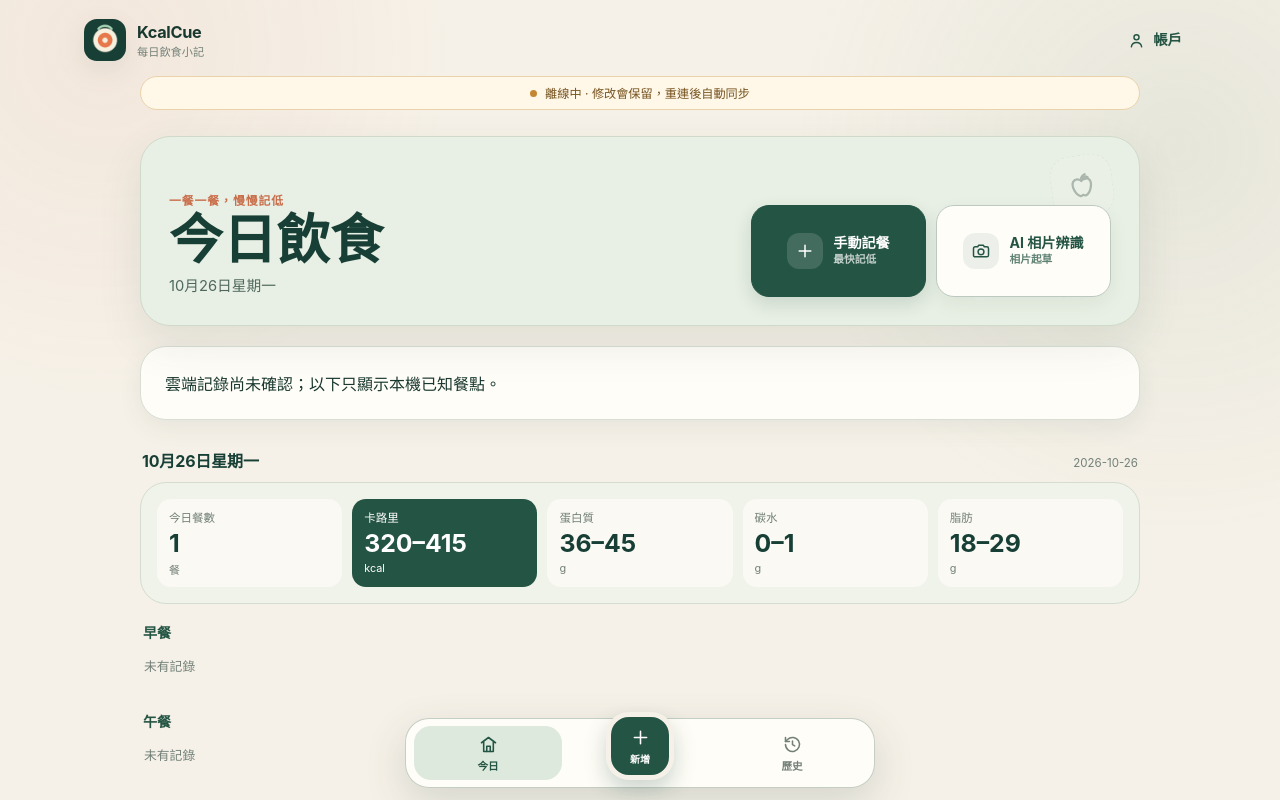
shows the corrected History meal and the original AI suggestion separately
This screenshot has width=1280, height=800.
Click the button "歷史" at (792, 753), box [718,726,866,780]
(page scrolled)
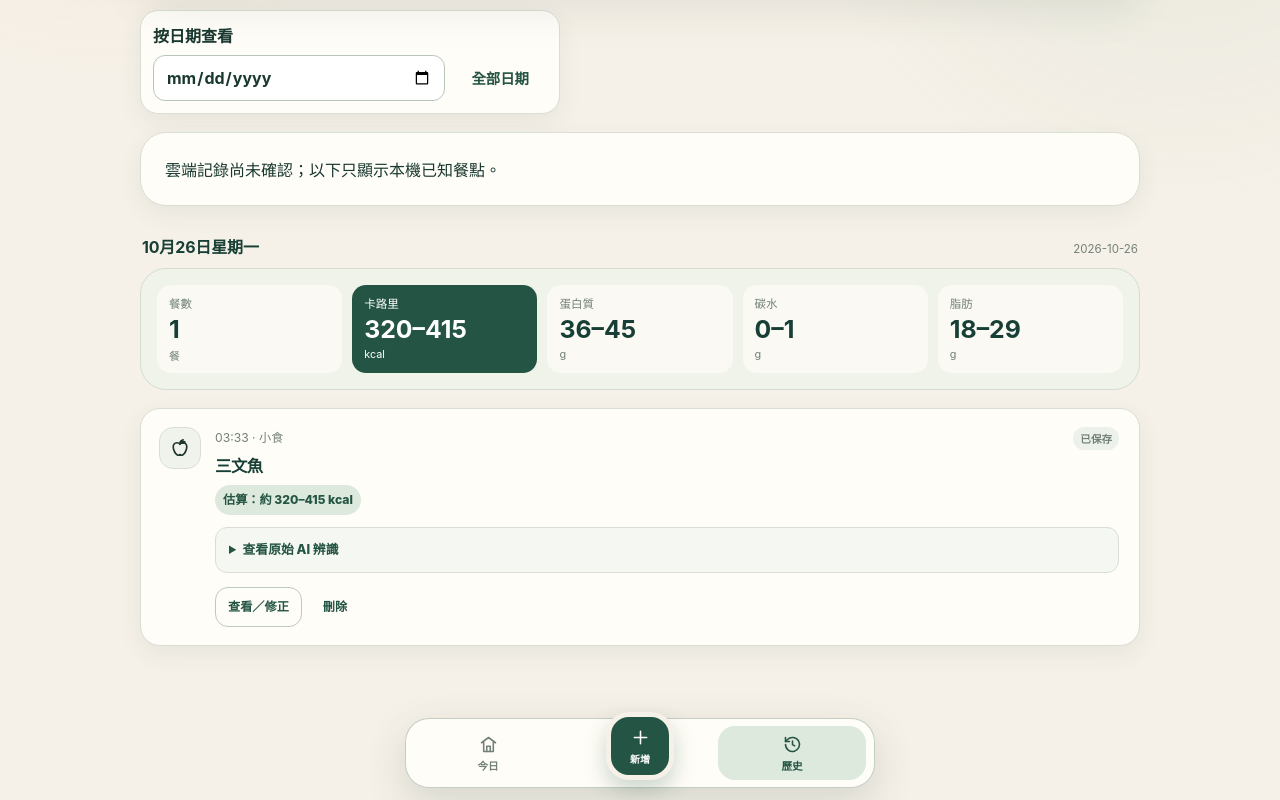
Check: the heading "三文魚" is shown, box [215,456,263,476]
Check: the element showing "03:33 · 小食 已保存 三文魚 估算：約 320–415 kcal 查看原始 AI 辨識 查看／修正 刪除" does not show "你食了", box [140,408,1140,646]
Click the heading "查看原始 AI 辨識" at (290, 550), box [242,542,338,557]
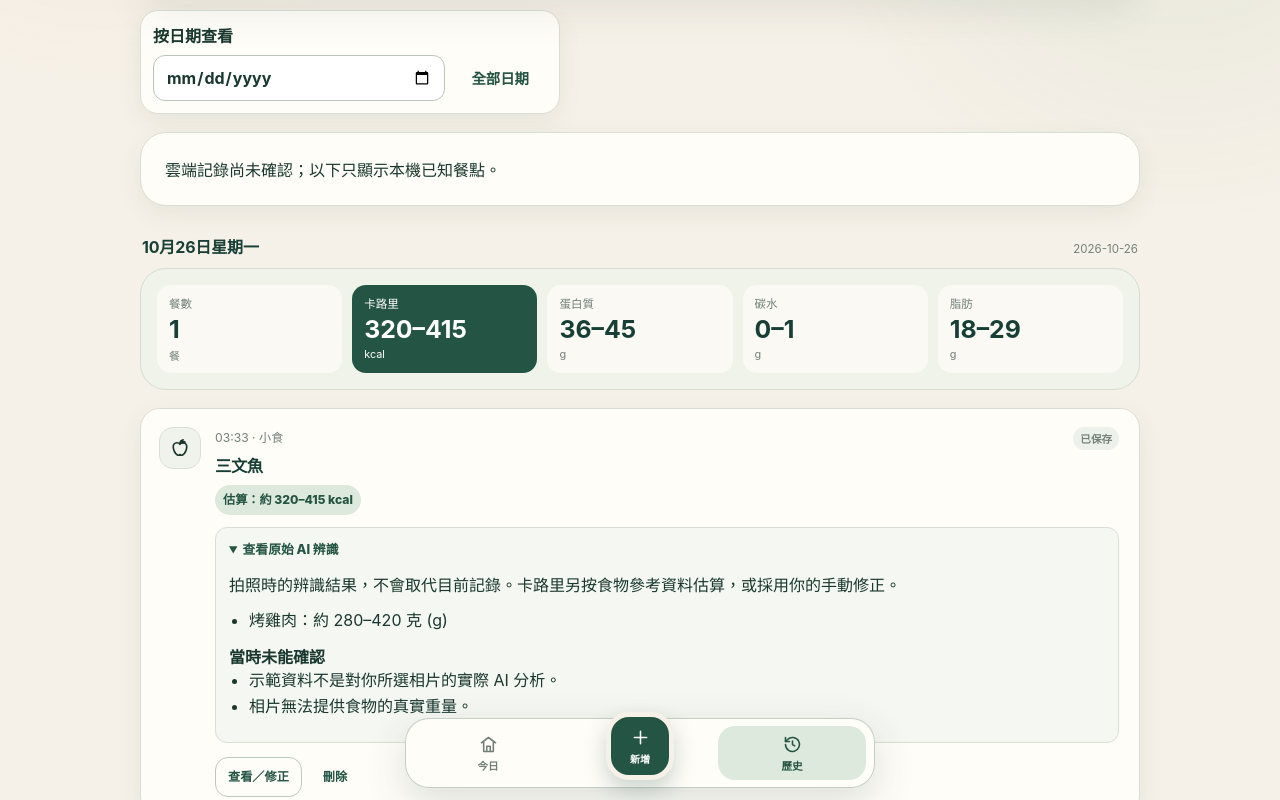
Check: the text "查看原始 AI 辨識" does not show "三文魚", box [215,527,1119,743]
Check: the text "查看原始 AI 辨識" shows "烤雞肉：約 280–420 克 (g)", box [215,527,1119,743]
